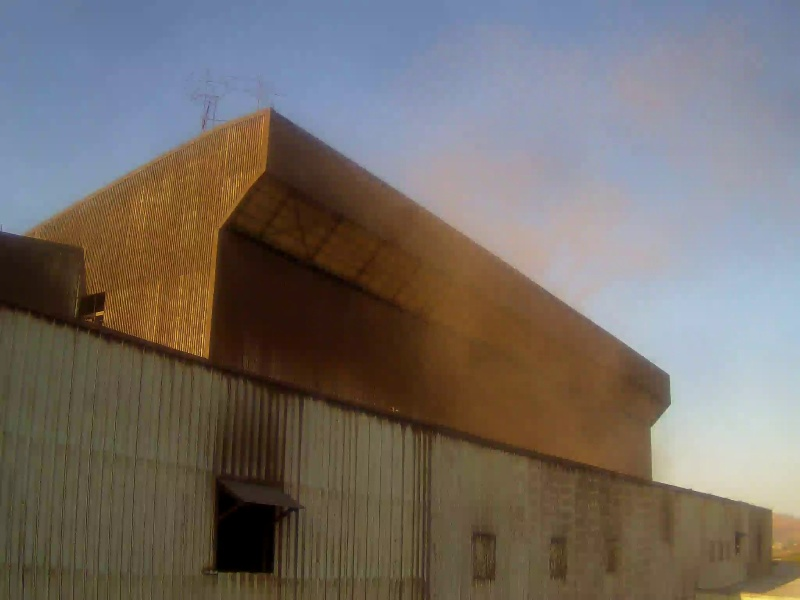pessimo: (404, 24, 676, 494)
